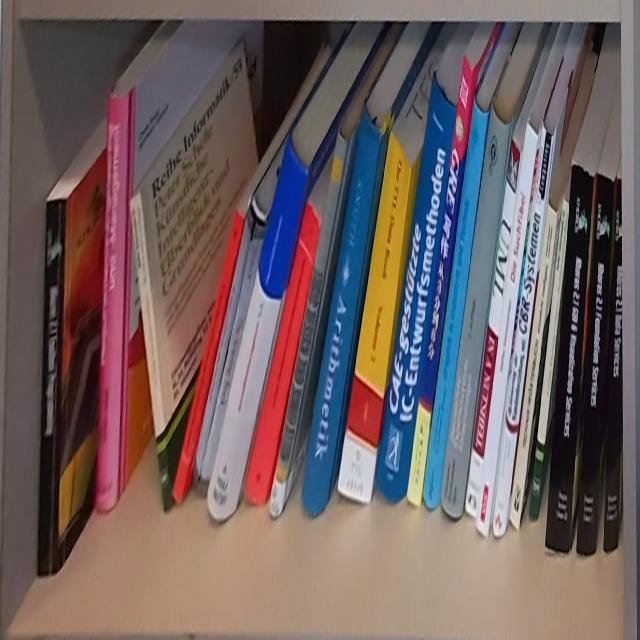Book Spine: (206, 135, 310, 521), (375, 74, 458, 504), (301, 101, 382, 518), (268, 130, 350, 519), (439, 103, 513, 518), (406, 53, 473, 506), (423, 94, 491, 512), (337, 130, 412, 503), (492, 123, 556, 539), (476, 122, 539, 537), (245, 200, 320, 506), (192, 206, 267, 493), (173, 209, 245, 504), (465, 139, 521, 518), (545, 162, 595, 555), (510, 204, 558, 530), (95, 93, 132, 513), (576, 171, 615, 555), (129, 193, 173, 514), (528, 199, 570, 523), (38, 198, 68, 577)
